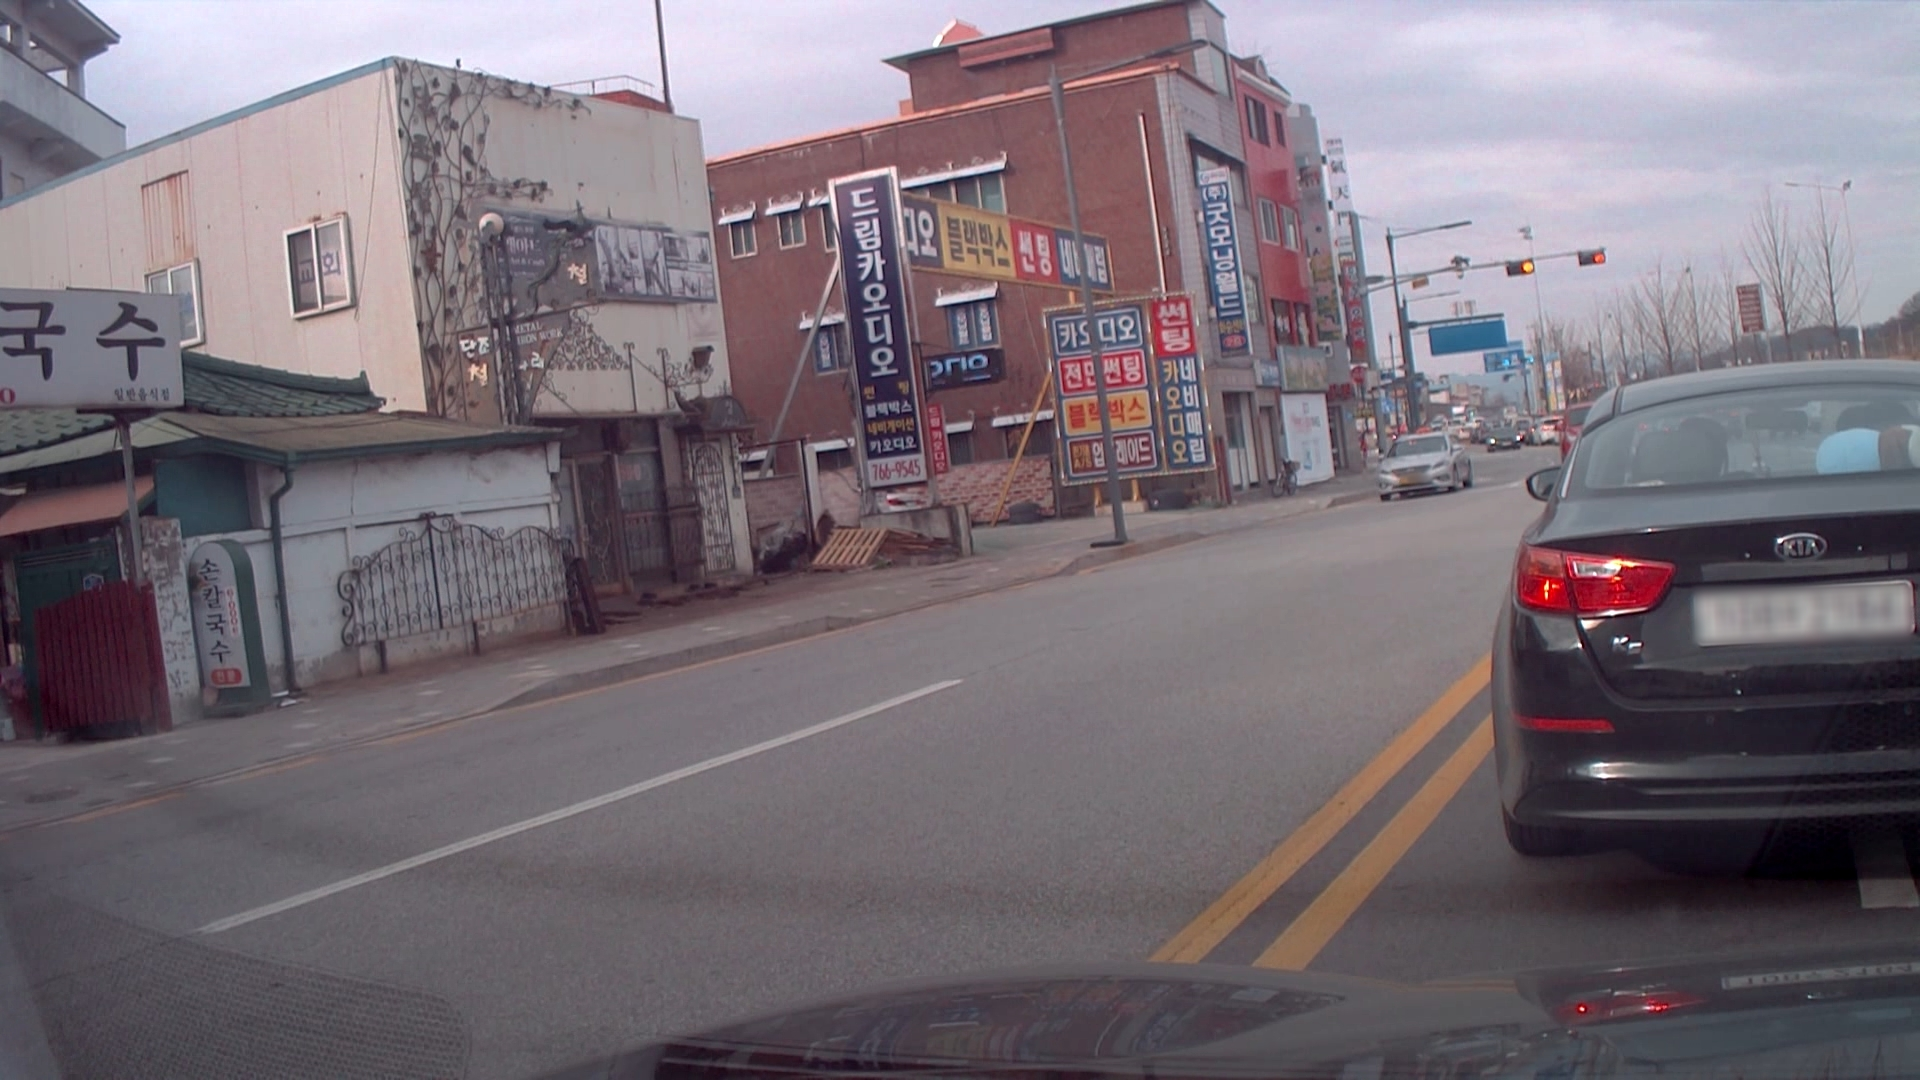trafficLight: (1501, 247, 1611, 277)
